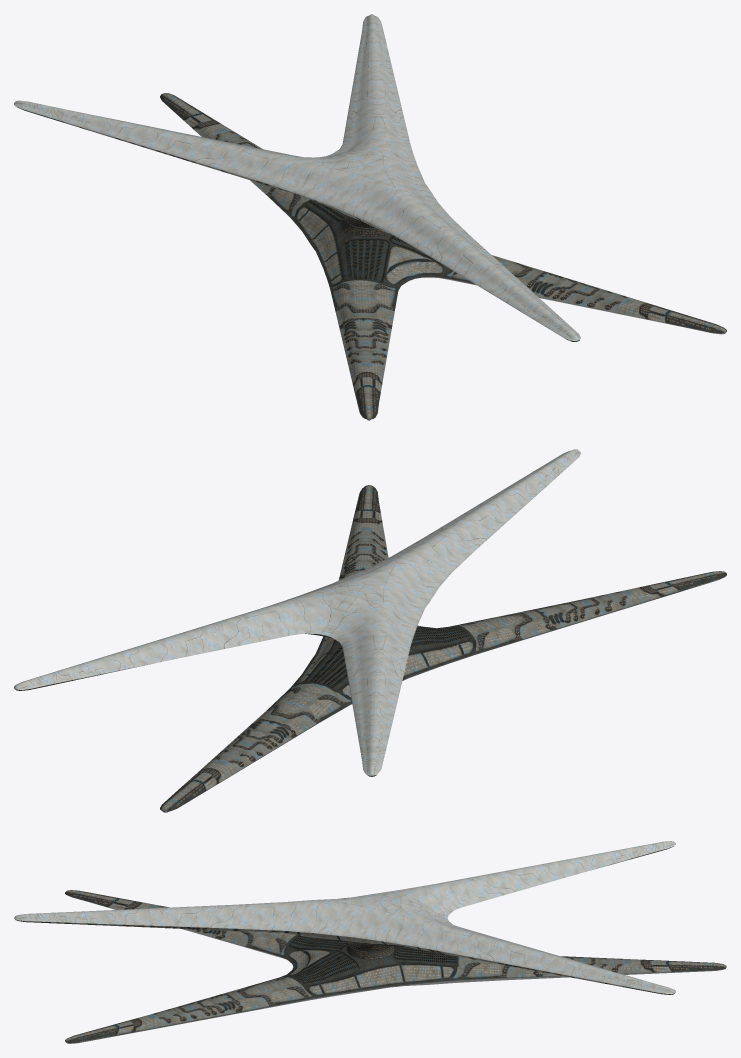
Rendered from baseStar.fbx.
3 renders of one model, top to bottom at view 1: azimuth 30°, elevation 25°; view 2: azimuth 150°, elevation 25°; view 3: azimuth 270°, elevation 25°, orthographic. The views are drawn at different scales.
Parts seen in each view (by area): view 1: cylbstr1co_2; view 2: cylbstr1co_2; view 3: cylbstr1co_2.
Part boxes in pixels (bbox=[...]): cylbstr1co_2: bbox=[14, 14, 726, 420]; cylbstr1co_2: bbox=[14, 449, 726, 812]; cylbstr1co_2: bbox=[14, 841, 726, 1043].
Size of the model in its own units: 773 by 1530 by 198.
Materials: 2 (1 with a texture image).
